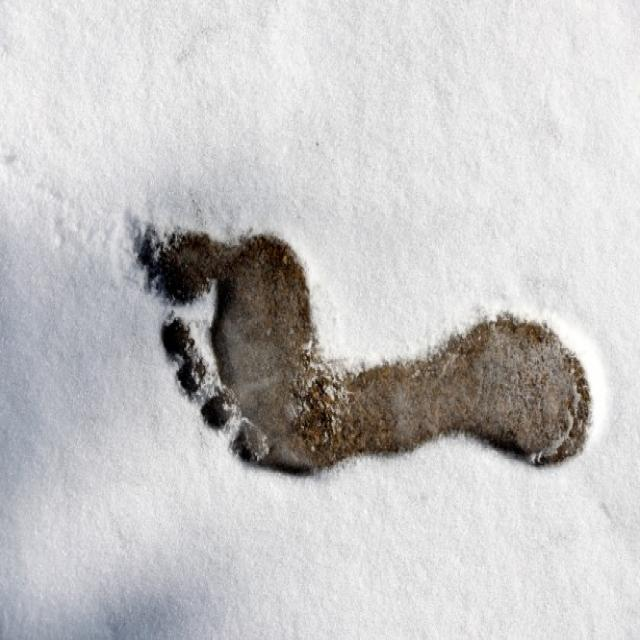human_footprint: (121, 209, 597, 480)
